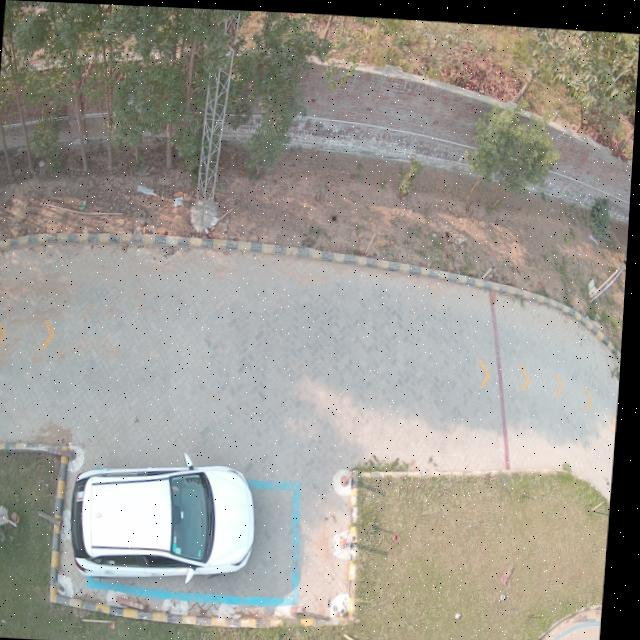car: (77, 463, 261, 577)
